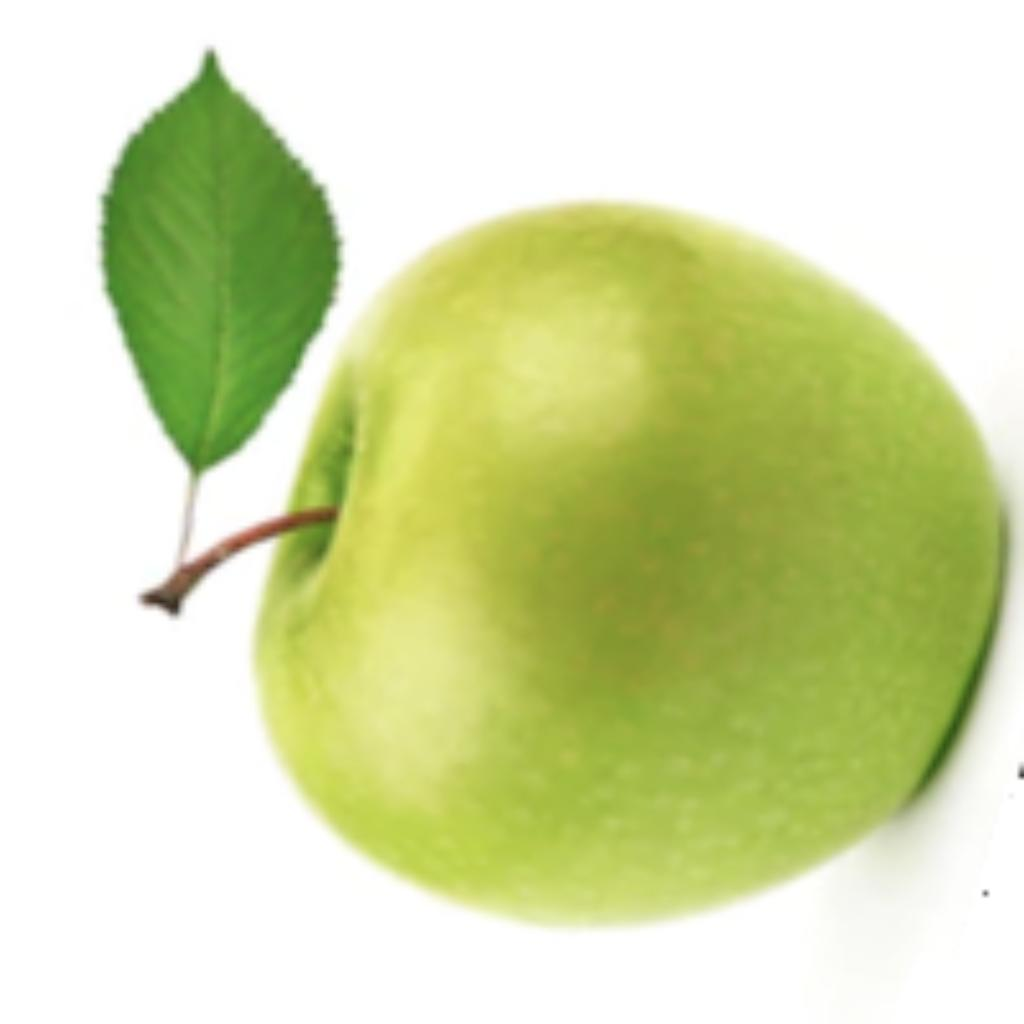apple: (87, 36, 1019, 932)
